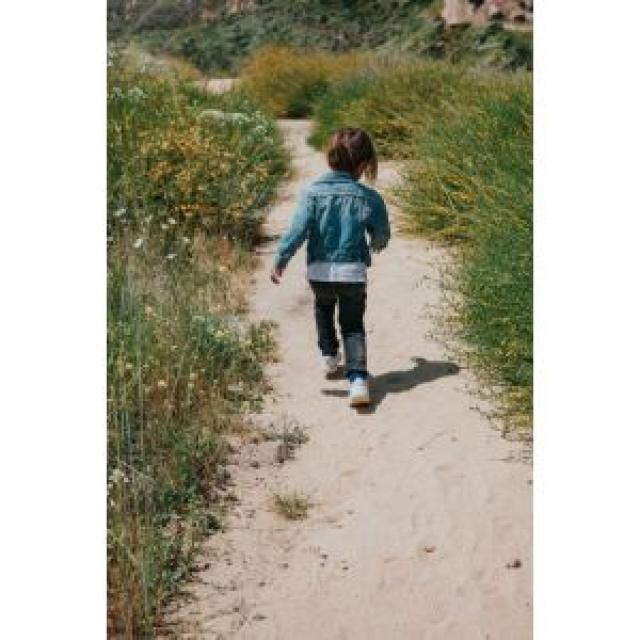nonfall: (279, 120, 413, 416)
